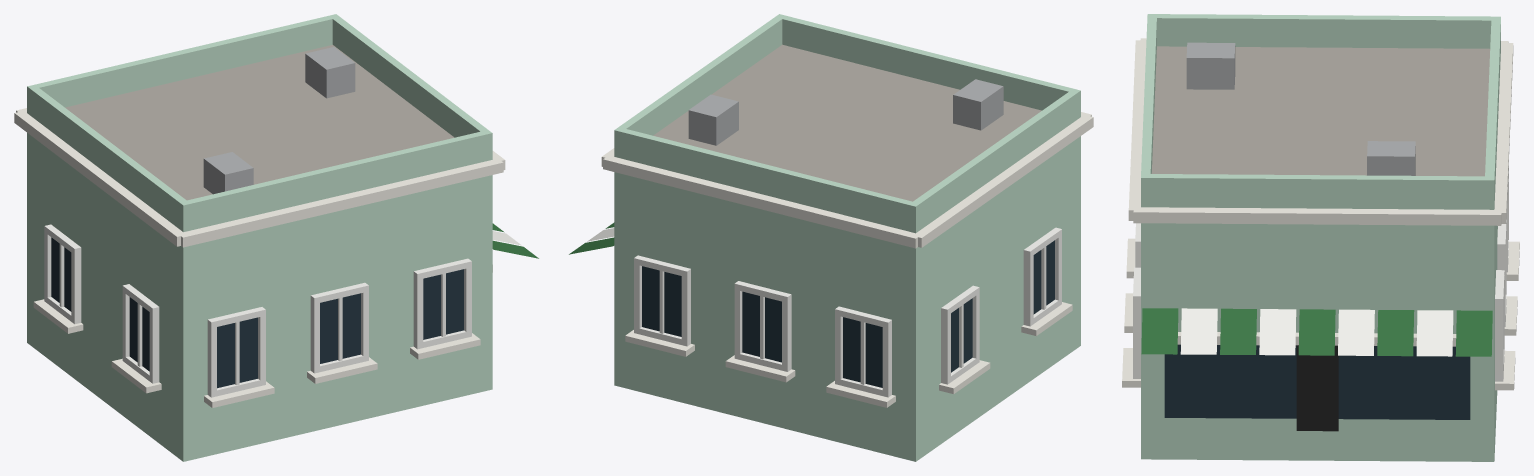
The picture shows the model from 3 angles, left to right: view 1: azimuth 30°, elevation 25°; view 2: azimuth 150°, elevation 25°; view 3: azimuth 270°, elevation 25°; orthographic projection. The views are drawn at different scales.
Parts seen in each view (by area): view 1: b2119; view 2: b2119; view 3: b2119.
Boxes of the visible parts, x1=… form: b2119: x1=14, y1=14, x2=538, y2=461; b2119: x1=569, y1=14, x2=1093, y2=461; b2119: x1=1122, y1=14, x2=1519, y2=461.
Bounding box in the file's own units: 3935 × 2618 × 3315.
